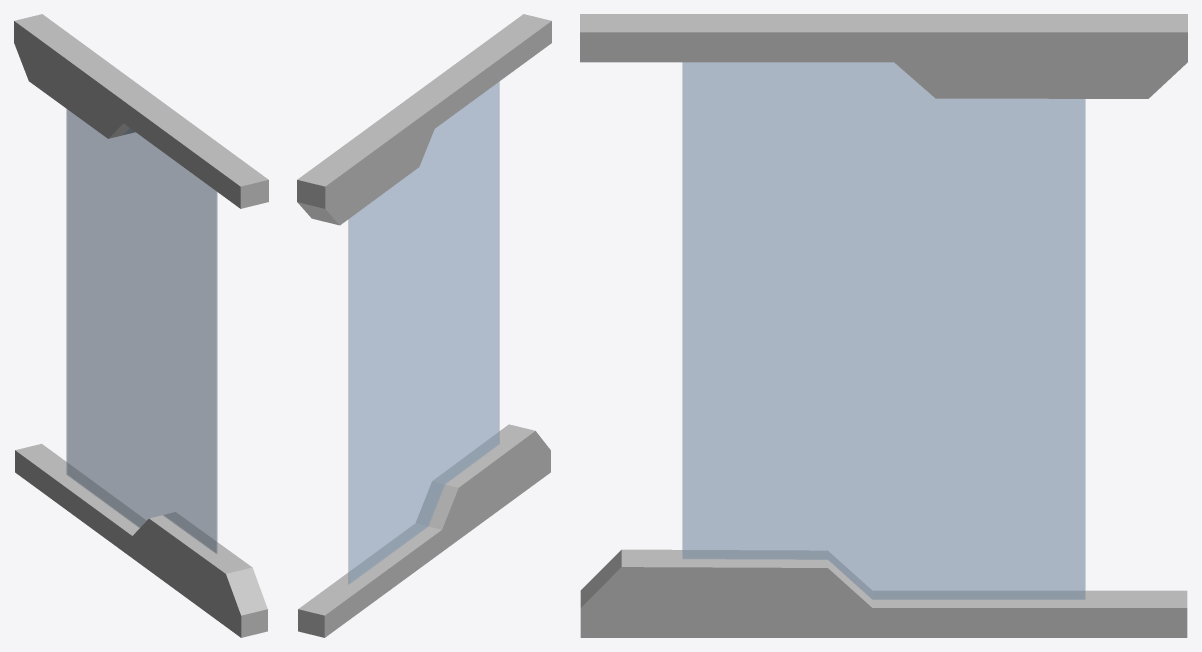
The model's file is Holoboard 1.fbx.
3 views of the same model, side by side, from view 1: azimuth 30°, elevation 25°; view 2: azimuth 150°, elevation 25°; view 3: azimuth 270°, elevation 25° (orthographic). The views are drawn at different scales.
Visible parts, largest first — view 1: Holoboard, Top Bar, Bottom Bar; view 2: Holoboard, Top Bar, Bottom Bar; view 3: Holoboard, Bottom Bar, Top Bar.
Part boxes in pixels (x1,y1,x2,y2): Holoboard: (66,109,217,553); Top Bar: (14,14,268,208); Bottom Bar: (15,443,267,637); Holoboard: (348,82,499,584); Top Bar: (297,14,551,225); Bottom Bar: (298,424,550,637); Holoboard: (682,62,1085,599); Bottom Bar: (580,549,1187,637); Top Bar: (580,14,1187,98).
Size of the model in its own units: 154 by 2361 by 2146.
Materials: 2 (2 with a texture image).
